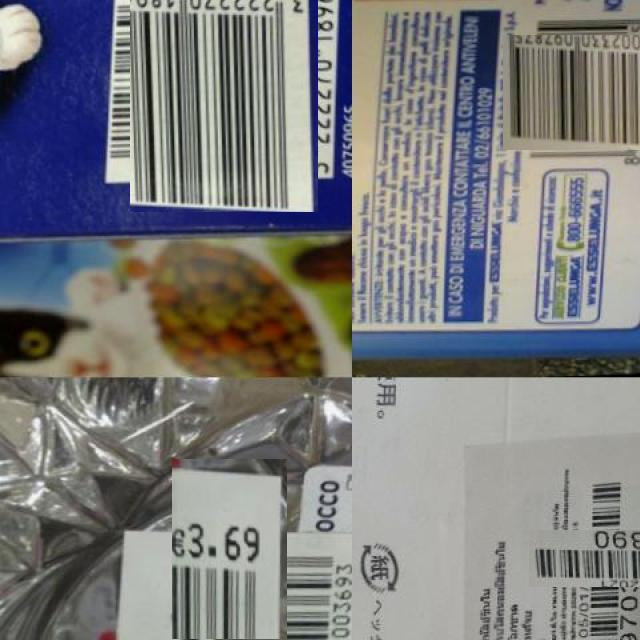Barcode: (118, 0, 330, 200), (139, 491, 319, 640), (513, 23, 640, 160), (555, 502, 640, 613)
